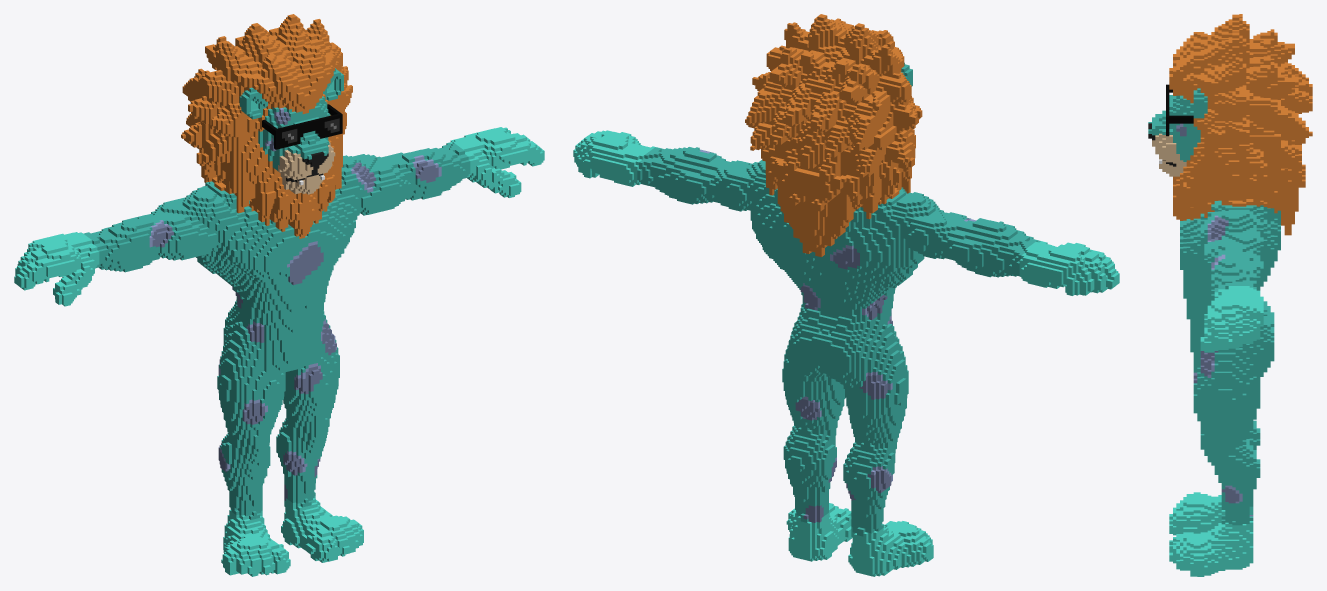
File: 1052-jvNDX3nT.glb
3 views of the same model, side by side, from view 1: azimuth 30°, elevation 25°; view 2: azimuth 150°, elevation 25°; view 3: azimuth 270°, elevation 25° (orthographic). The views are drawn at different scales.
Parts seen in each view (by area): view 1: standard.001; view 2: standard.001; view 3: standard.001.
Part boxes in pixels (bbox=[...]): standard.001: bbox=[14, 14, 544, 576]; standard.001: bbox=[573, 14, 1119, 576]; standard.001: bbox=[1148, 14, 1312, 576].
Bounding box in the file's own units: 17.2 × 16.5 × 4.7.
4 materials, 4 textured.
